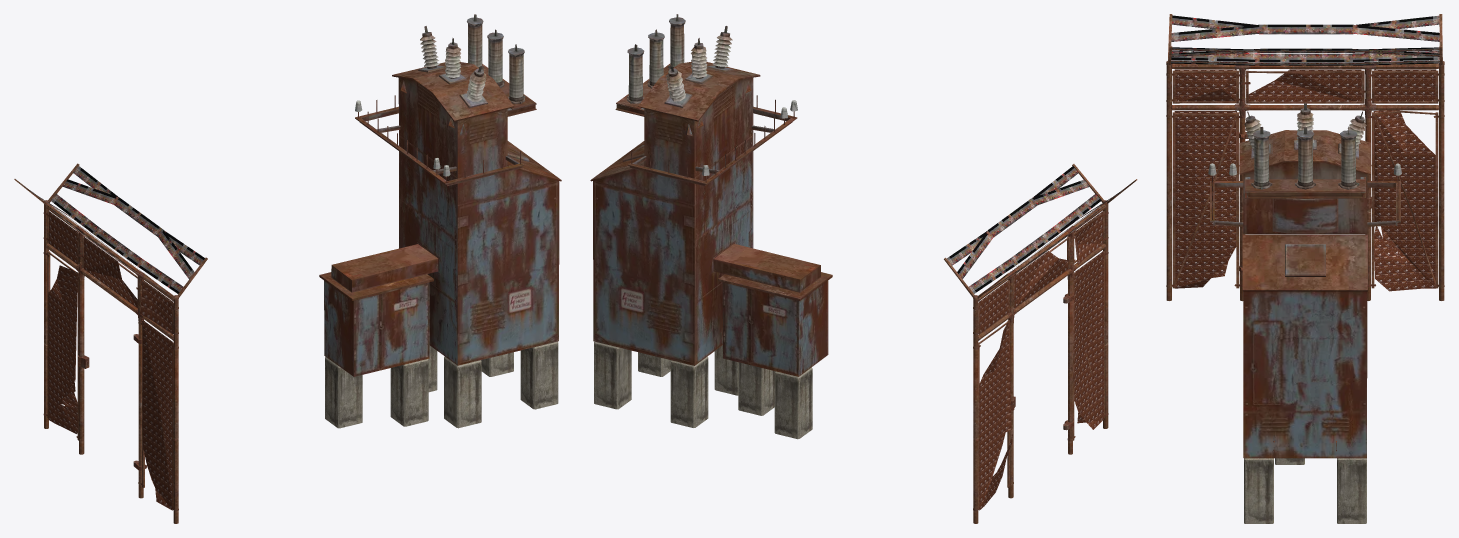
File: power_sub_small_2-close.glb
3 renders of one model, left to right at view 1: azimuth 30°, elevation 25°; view 2: azimuth 150°, elevation 25°; view 3: azimuth 270°, elevation 25°, orthographic. The views are drawn at different scales.
Parts seen in each view (by area): view 1: substation_a_LOD0, chainlink_fence_3x3_gate_LOD0; view 2: substation_a_LOD0, chainlink_fence_3x3_gate_LOD0; view 3: substation_a_LOD0, chainlink_fence_3x3_gate_LOD0.
Part boxes in pixels (bbox=[...]): substation_a_LOD0: bbox=[319, 14, 561, 428]; chainlink_fence_3x3_gate_LOD0: bbox=[14, 163, 207, 523]; substation_a_LOD0: bbox=[590, 14, 832, 439]; chainlink_fence_3x3_gate_LOD0: bbox=[944, 164, 1137, 523]; substation_a_LOD0: bbox=[1208, 102, 1401, 523]; chainlink_fence_3x3_gate_LOD0: bbox=[1166, 14, 1444, 301].
Bounding box in the file's own units: 5.94 × 4.54 × 3.
4 materials, 4 textured.
